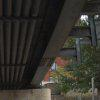Tree: (70, 42, 100, 100)
